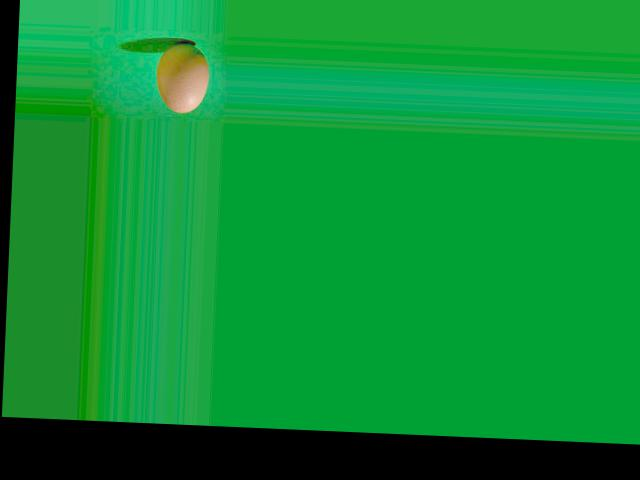egg: (154, 41, 210, 113)
